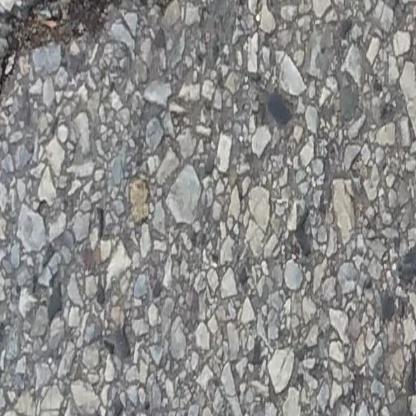Cracks: (0, 0, 186, 149)
